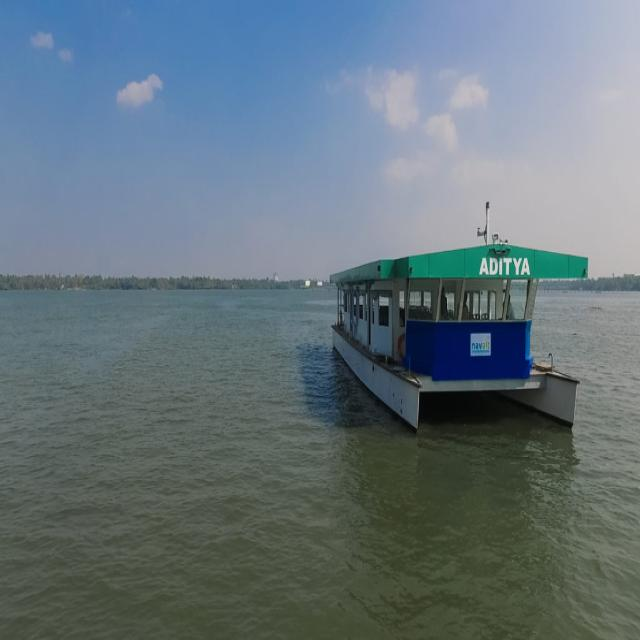houseboat: (325, 196, 592, 448)
